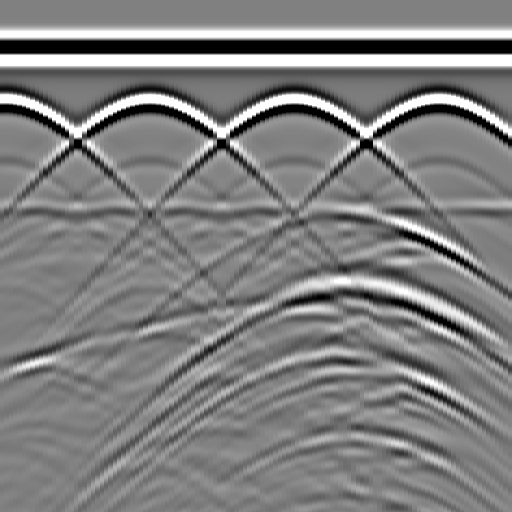grout_surface: (1, 195, 512, 225)
rebar: (127, 83, 167, 123), (271, 83, 311, 123), (416, 83, 456, 123)
rock_surface: (1, 306, 511, 379)
water_void: (315, 189, 375, 229)
